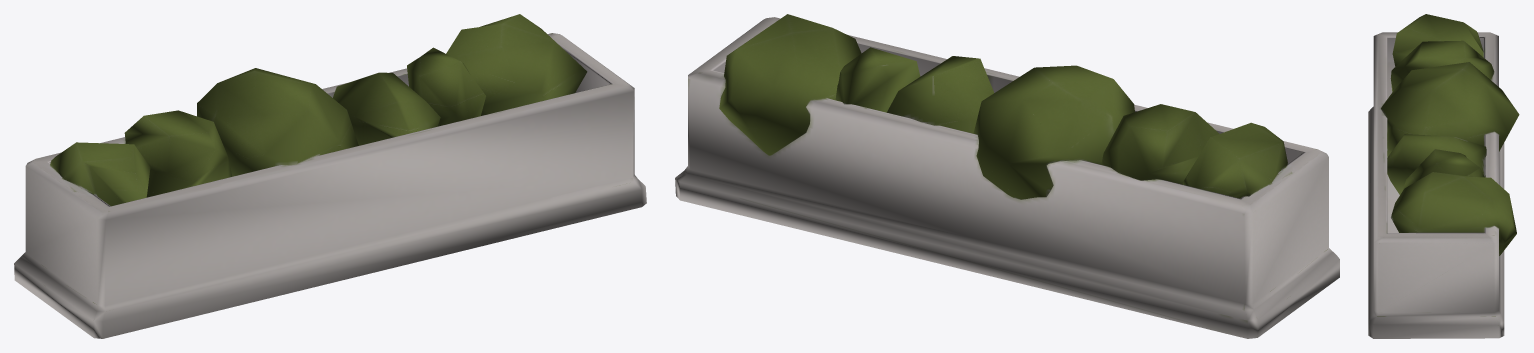
The model's file is planter_box.fbx.
3 renders of one model, left to right at view 1: azimuth 30°, elevation 25°; view 2: azimuth 150°, elevation 25°; view 3: azimuth 270°, elevation 25°, orthographic. The views are drawn at different scales.
Parts seen in each view (by area): view 1: Mesh_0; view 2: Mesh_0; view 3: Mesh_0.
Part boxes in pixels (box(x1,y1,x2,y2)): Mesh_0: box(14, 14, 646, 338); Mesh_0: box(675, 14, 1339, 338); Mesh_0: box(1368, 14, 1519, 338).
Size of the model in its own units: 96.29 by 28.81 by 28.42.
Materials: 1 (1 with a texture image).
